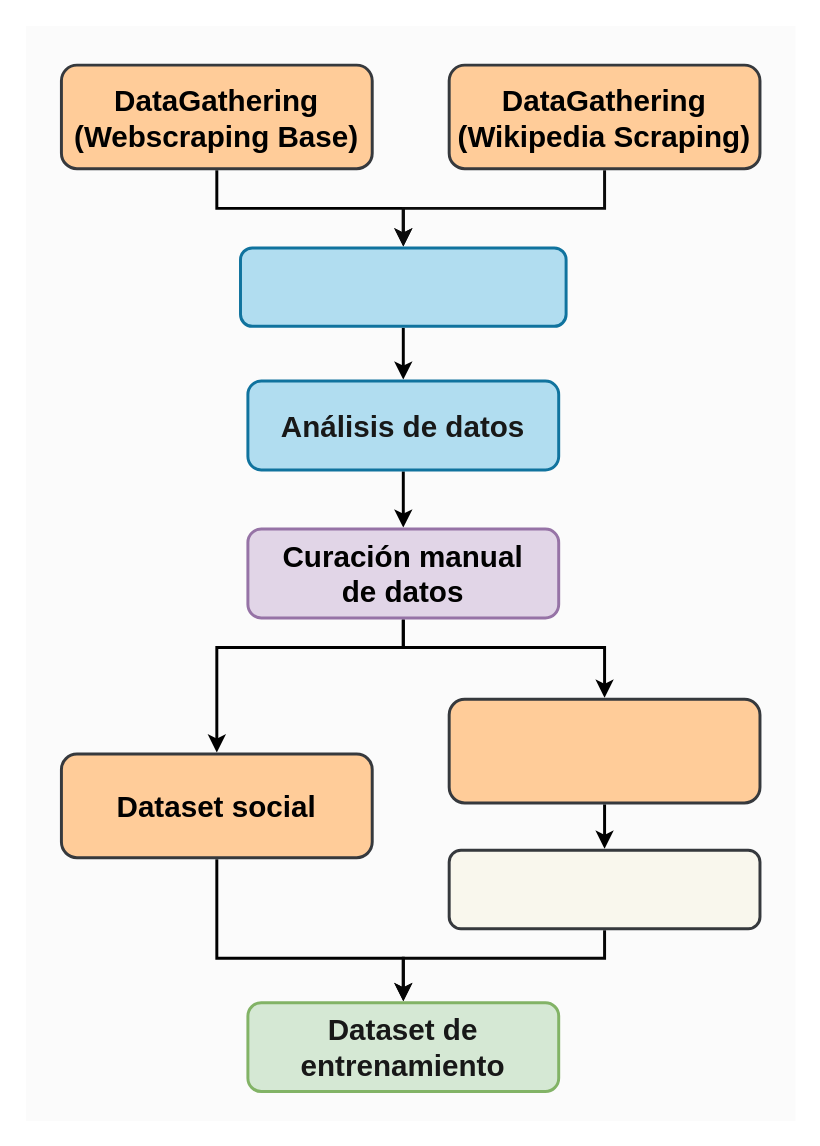
The diagram is 820 pixels wide and 1146 high, and some of its shapes have lost their labels. Here are the shapes that lost their labels. From the top down, the box of each, then its label:
(238, 246, 567, 327): Preparación de datos
(447, 697, 761, 804): Agregación de contextos técnicos
(447, 848, 761, 929): Paráfrasis
